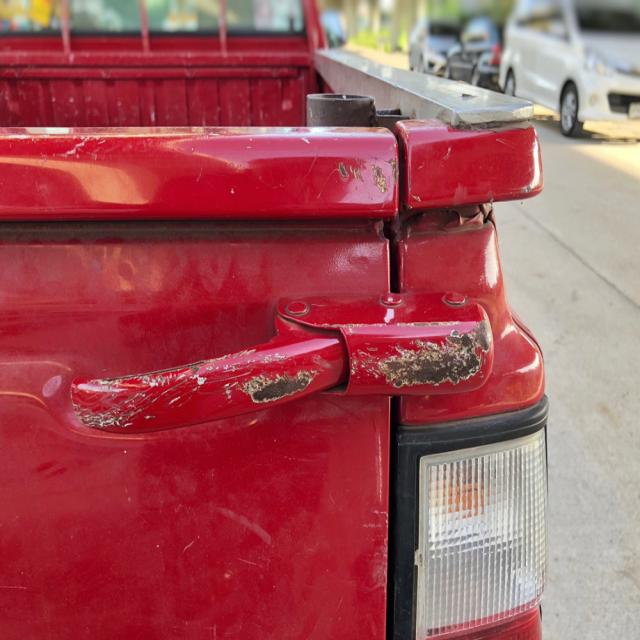scratch: (76, 345, 327, 435), (355, 324, 491, 383)
